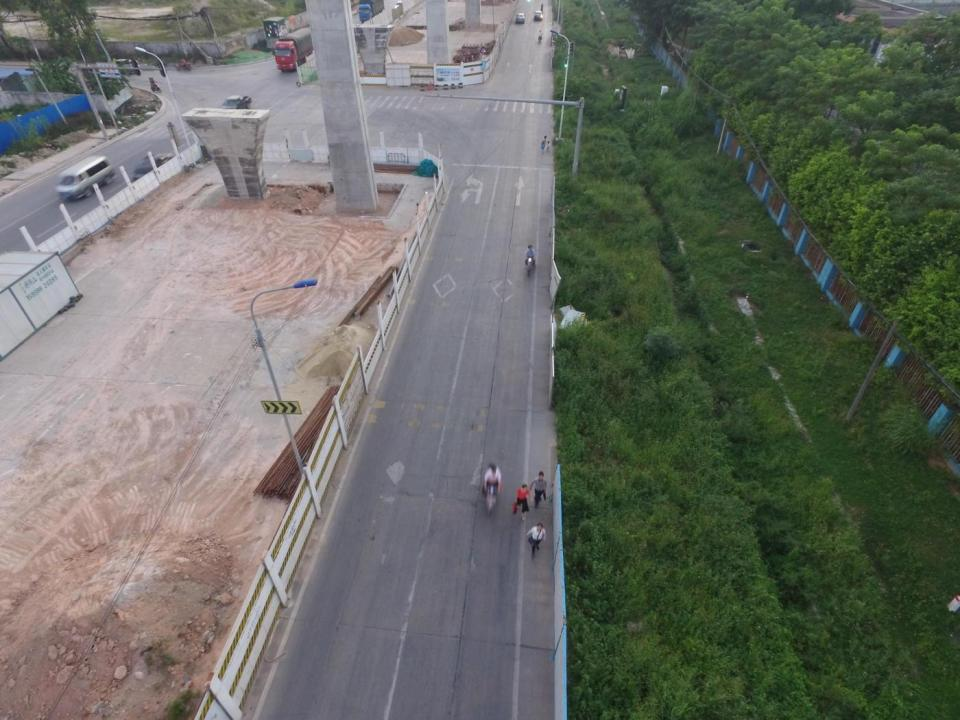car: (131, 154, 173, 190), (219, 95, 252, 116), (515, 13, 525, 23), (534, 10, 542, 21)
truck: (274, 25, 327, 73), (358, 0, 384, 25)
van: (56, 153, 117, 201)
